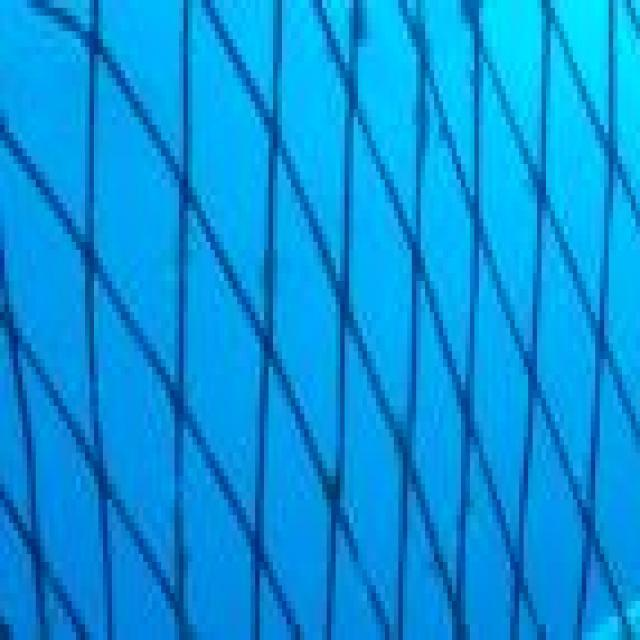fence line: (2, 1, 639, 637)
